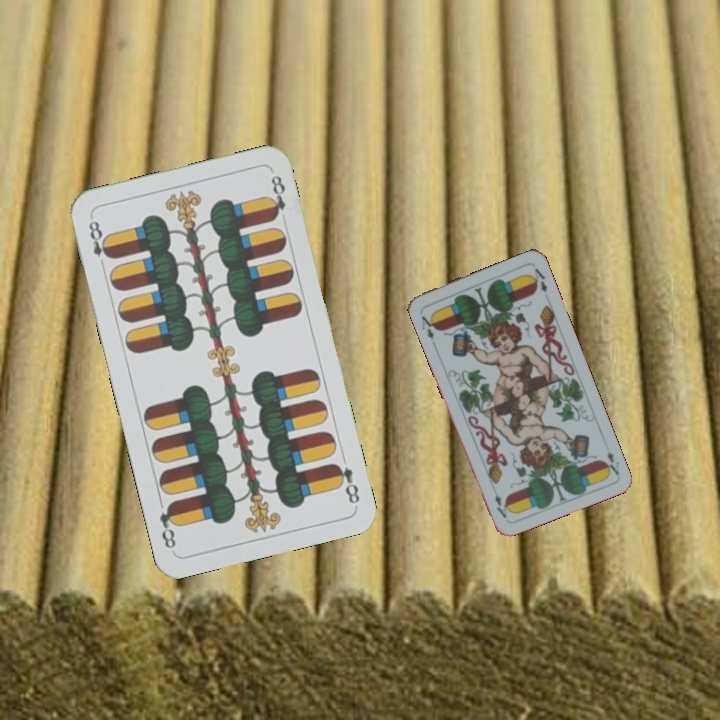E8: (84, 213, 115, 272), (329, 459, 363, 507)
EA: (600, 439, 622, 478), (417, 311, 440, 342)
